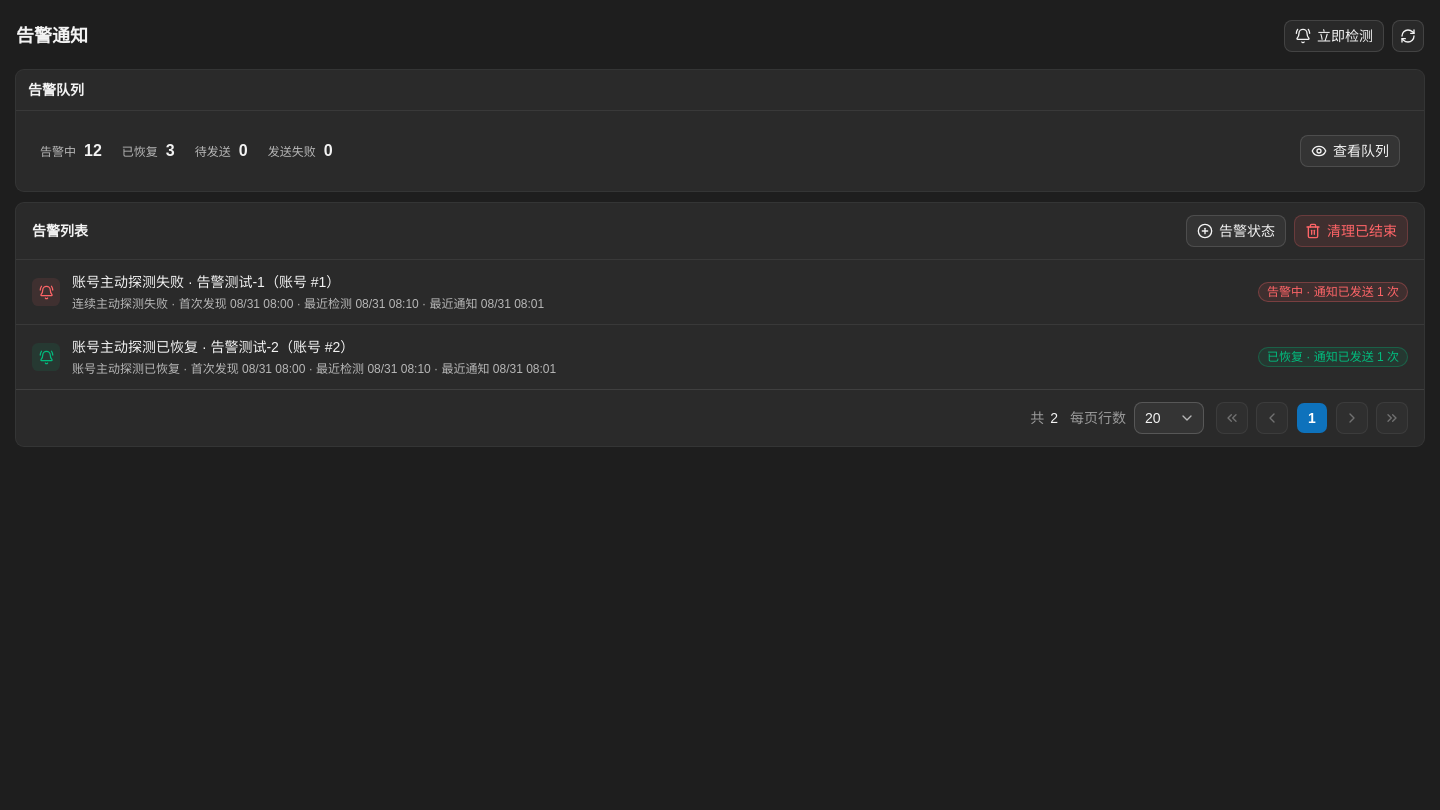
Test: AlertsPage layout › 告警状态按字典排列，筛选仅展示匹配记录且保留其他记录
Click the button with aria-label "告警状态筛选": (1236, 231) [1186,215,1286,247]
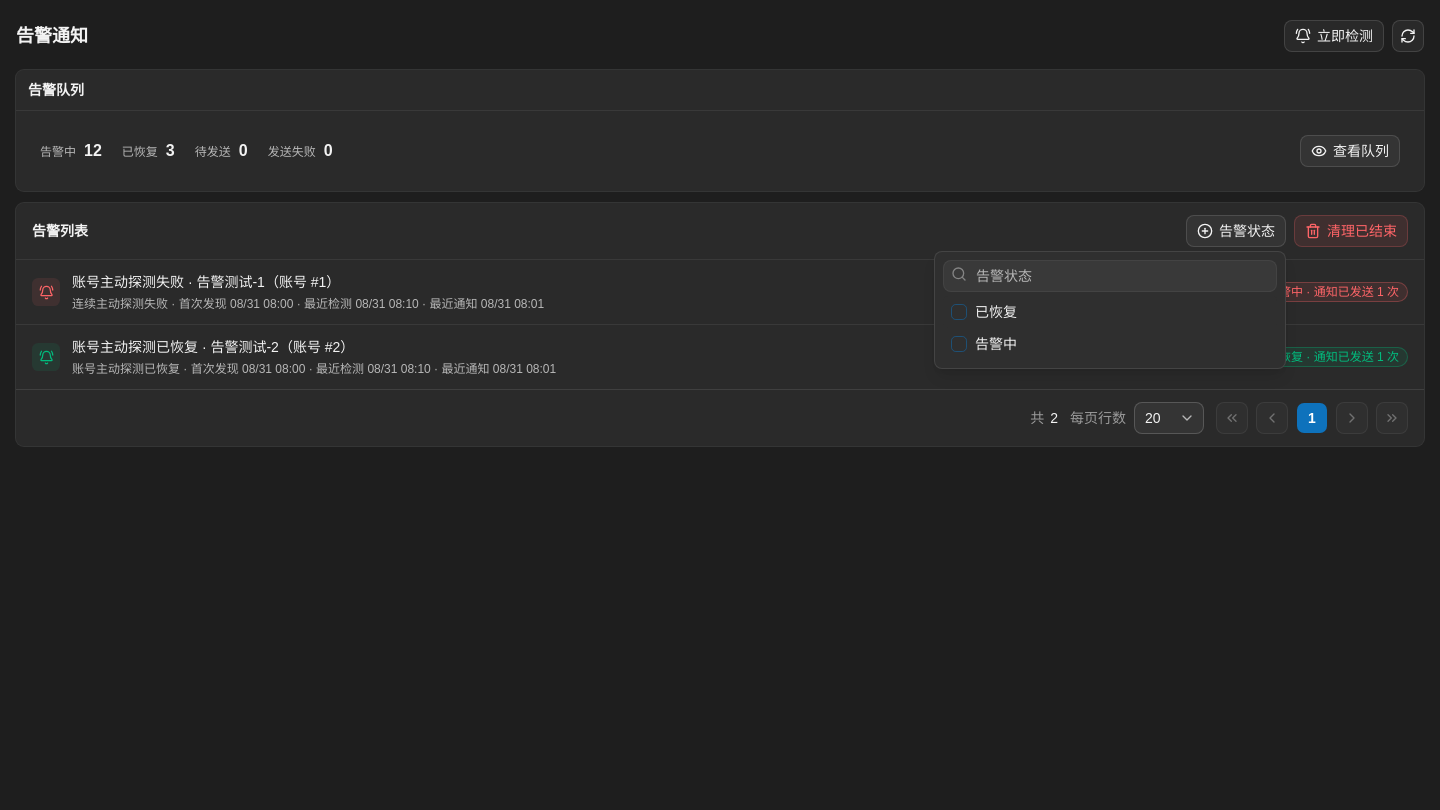
Click the option "已恢复": (996, 312) [943,296,1277,328]
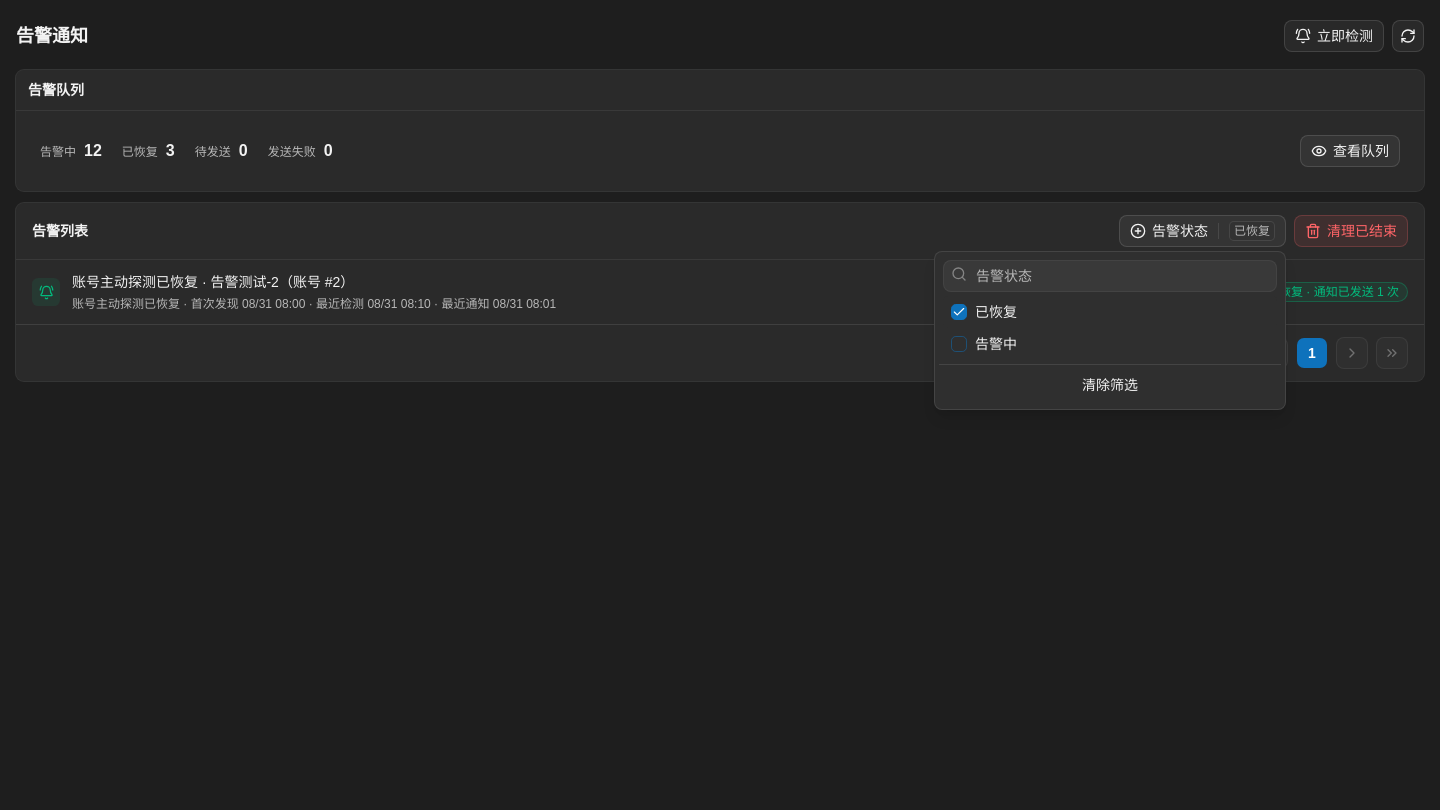
Expected: the text "账号主动探测已恢复 · 告警测试-2（账号 #2）" is shown, [72,274,354,290]
Result: the text "告警测试-1" is gone
Click the button "清除筛选": (1110, 385) [943,369,1277,401]
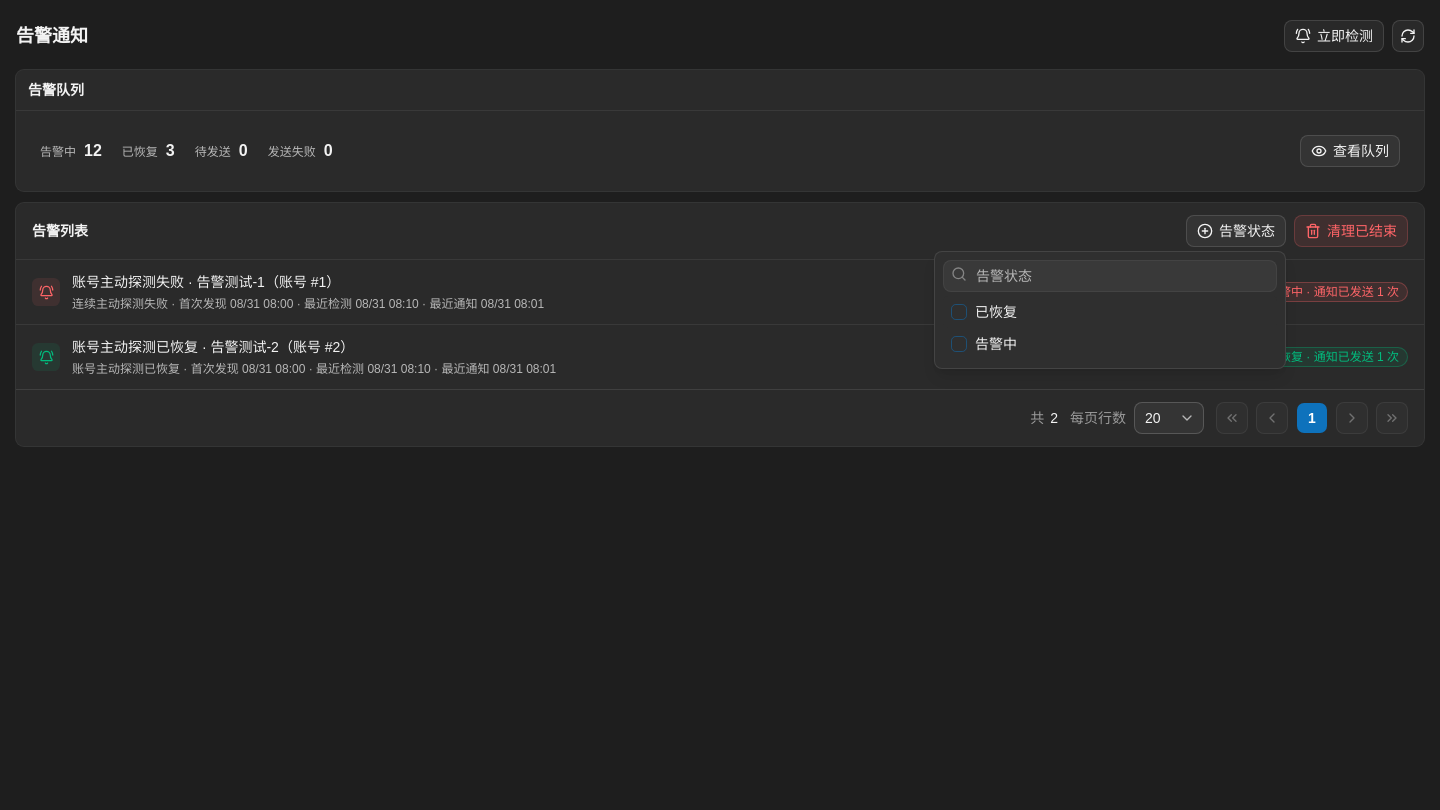
Result: the text "账号主动探测失败 · 告警测试-1（账号 #1）" is shown at [72,274,340,290]
